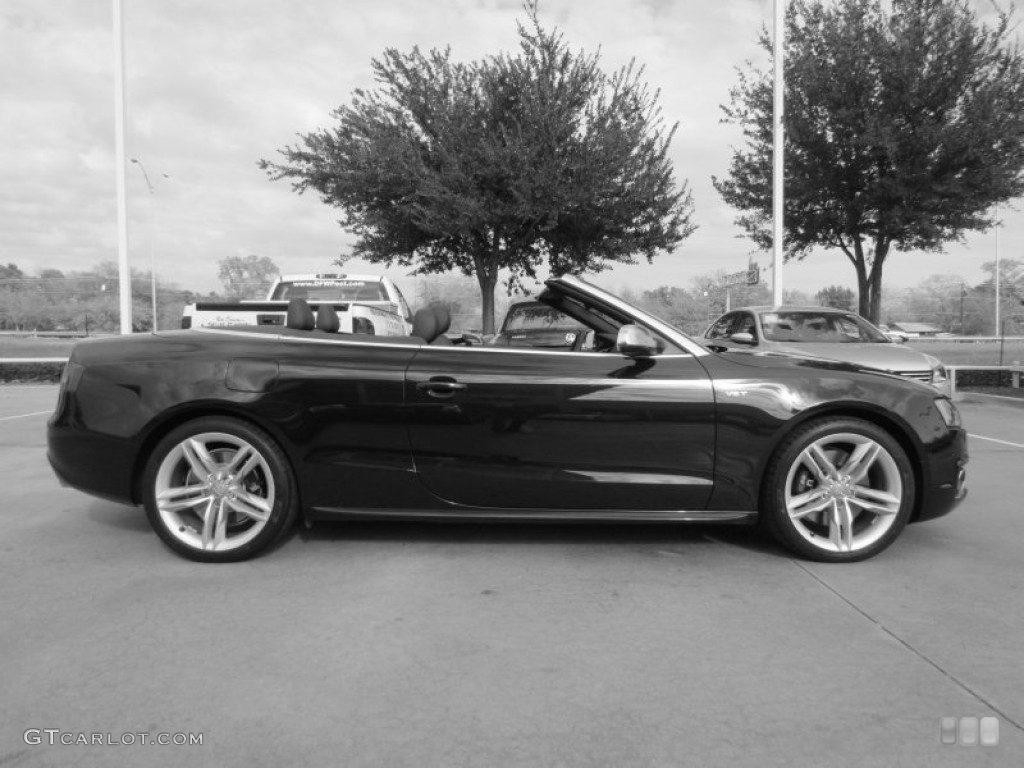car: (43, 276, 973, 562)
